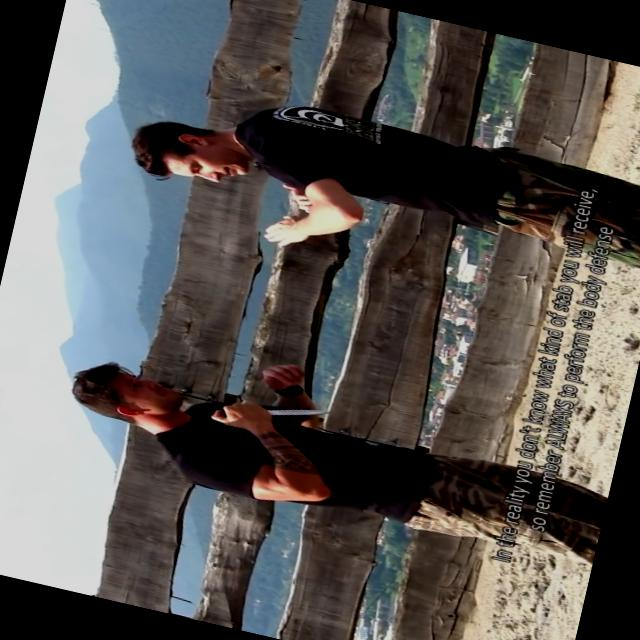knife: (206, 380, 338, 448)
